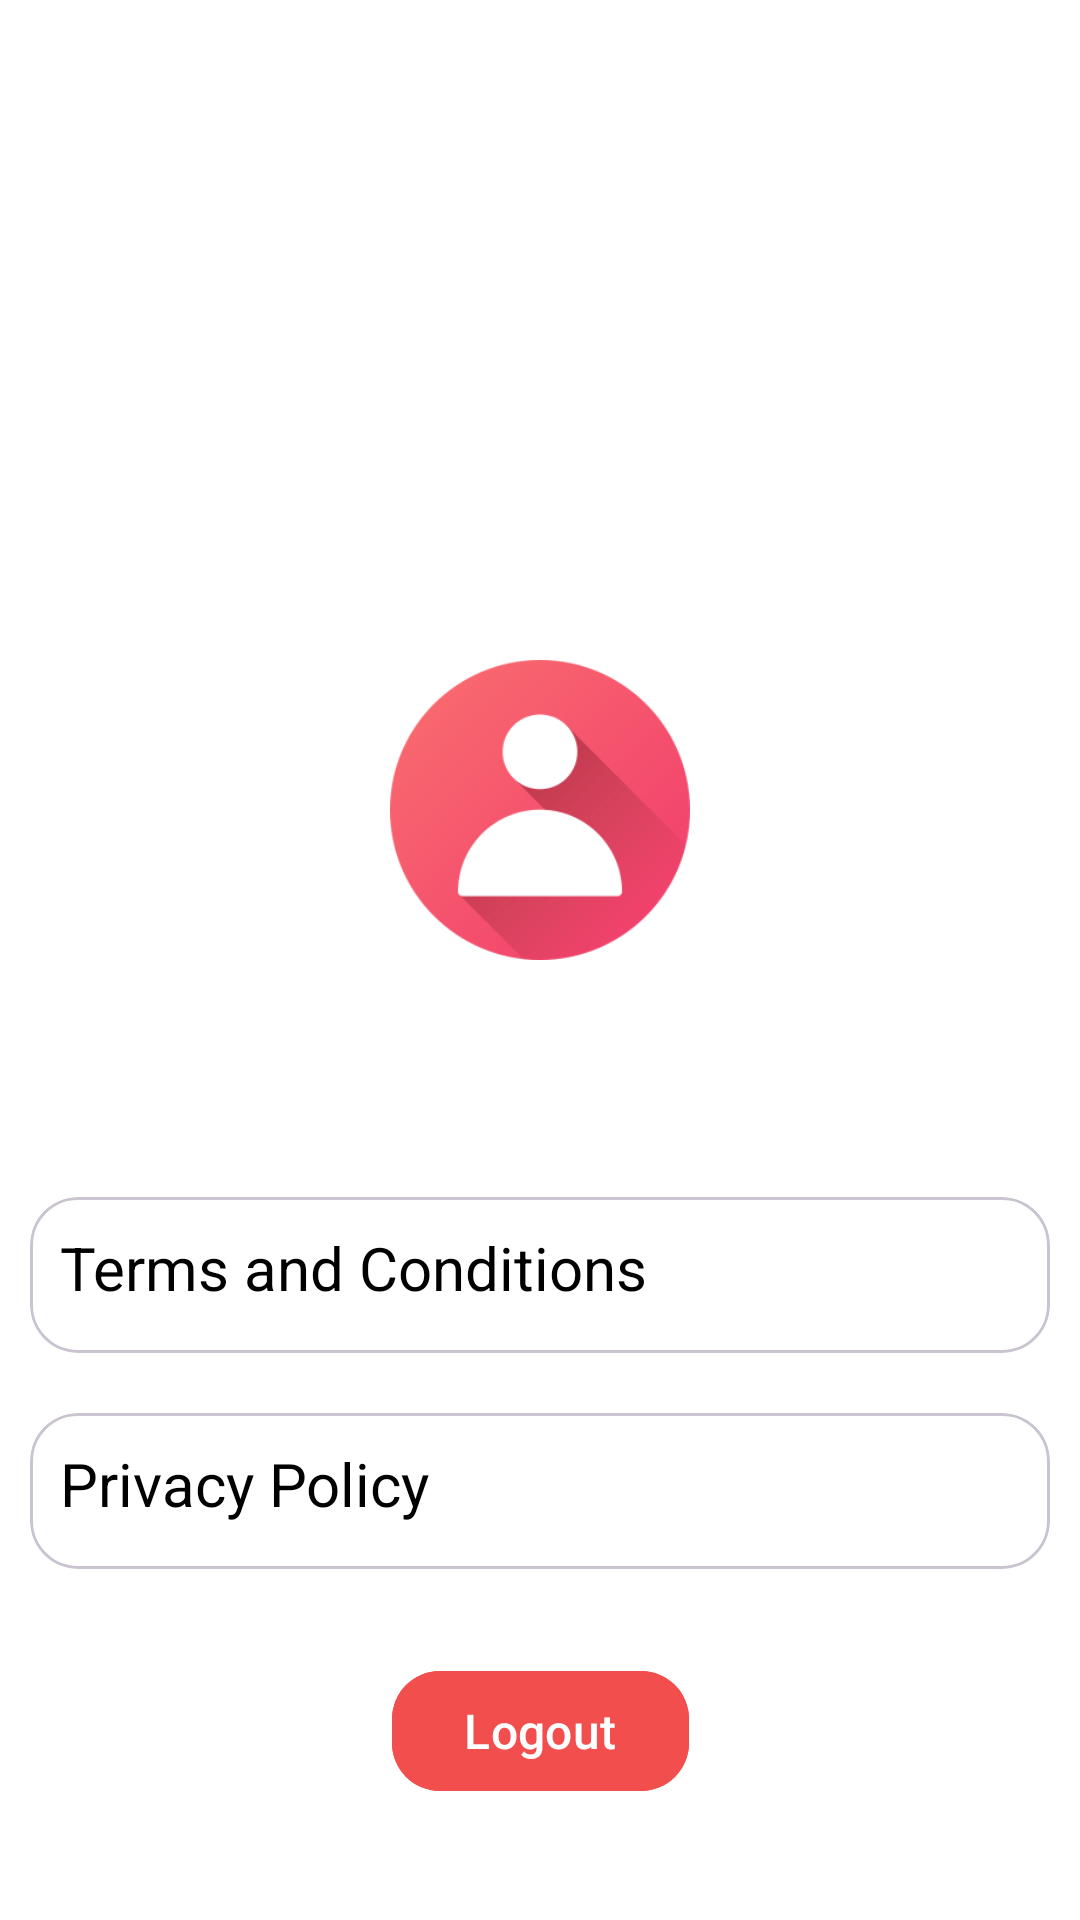

Named icons in this screenshot (1080 x 1920) and their centers, (x=x, y=y):
userimg: (x=540, y=810)
